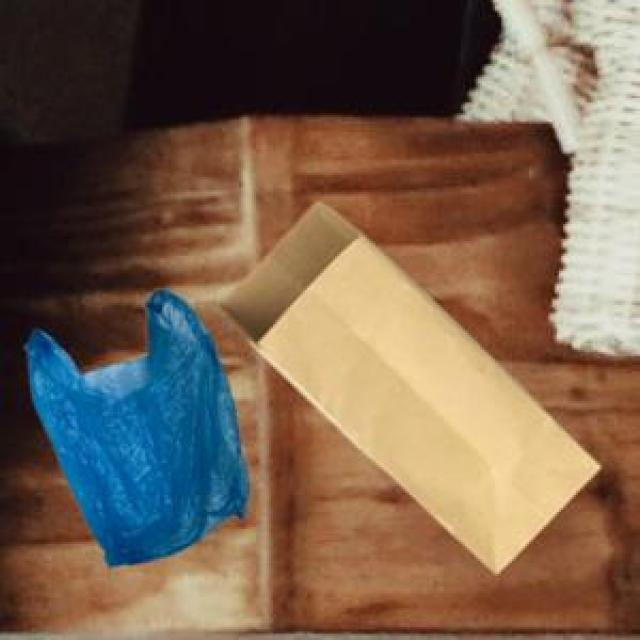paper: (216, 198, 595, 570)
